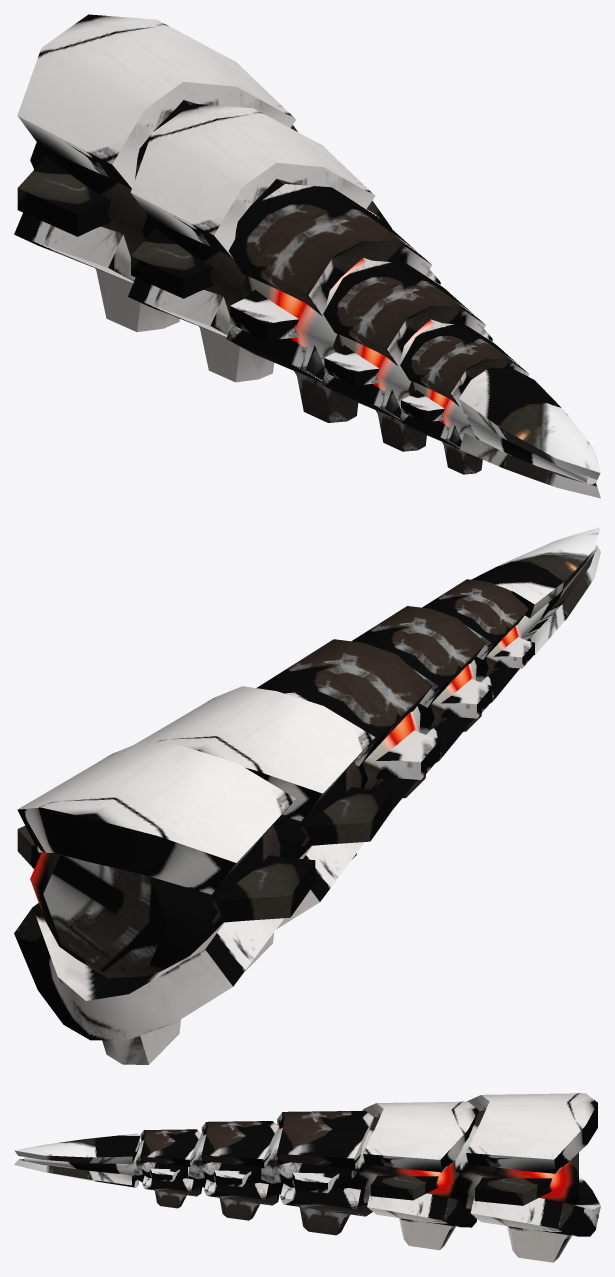
File: ship17i.fbx
3 views of the same model, one above another, from view 1: azimuth 30°, elevation 25°; view 2: azimuth 150°, elevation 25°; view 3: azimuth 270°, elevation 25° (orthographic). The views are drawn at different scales.
Visible parts, largest first — view 1: PipelineFBX; view 2: PipelineFBX; view 3: PipelineFBX.
Part boxes in pixels (x1,y1,x2,y2): PipelineFBX: (14, 14, 600, 498); PipelineFBX: (14, 527, 600, 1064); PipelineFBX: (14, 1093, 600, 1262).
Bounding box in the file's own units: 143 × 138 × 469.
Materials: 1 (1 with a texture image).
